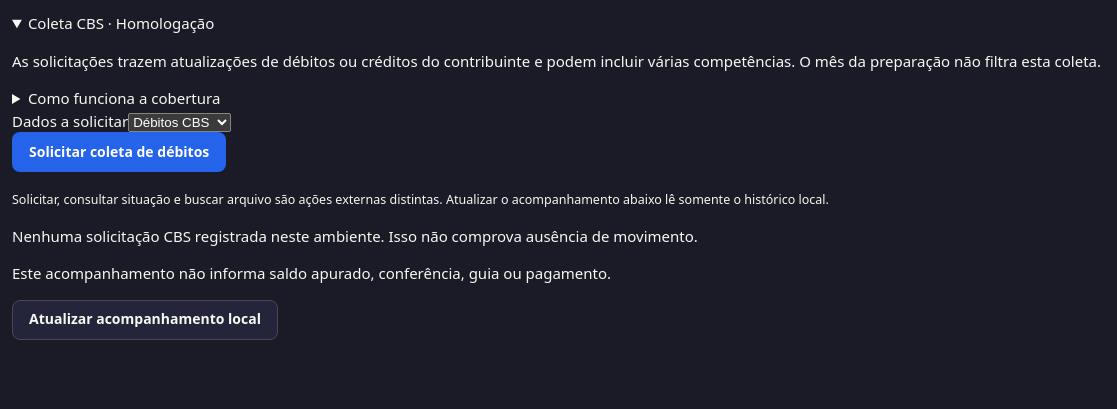
Test: abertura manual usa apenas recurso/ambiente/UUID; duplo clique não duplica e timeout conserva intenção
Expected: the text "Nenhuma solicitação CBS registrada" is shown, x1=12 y1=226 x2=698 y2=246
Select "Créditos CBS" in the dropdown labelled "Dados a solicitar" at (180, 122), box x1=128 y1=112 x2=231 y2=132
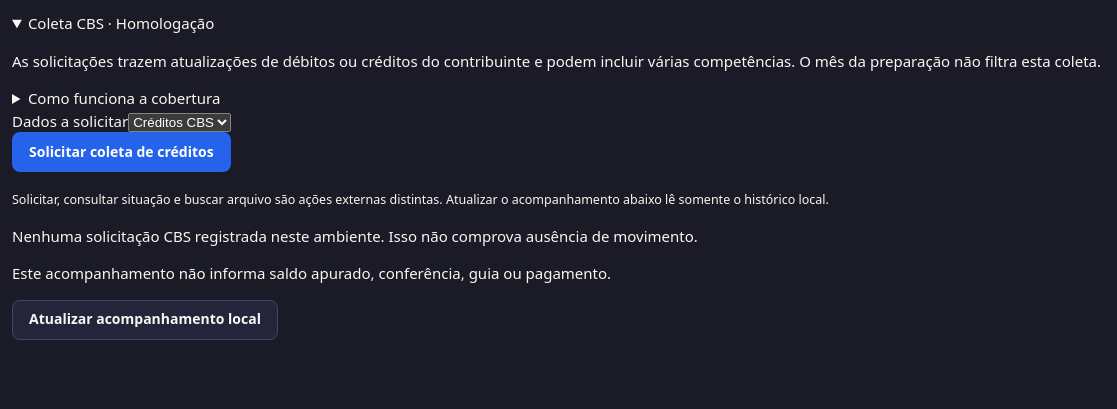
Click the button "Solicitar coleta de créditos".
click(121, 152)  # box x1=12 y1=132 x2=231 y2=172
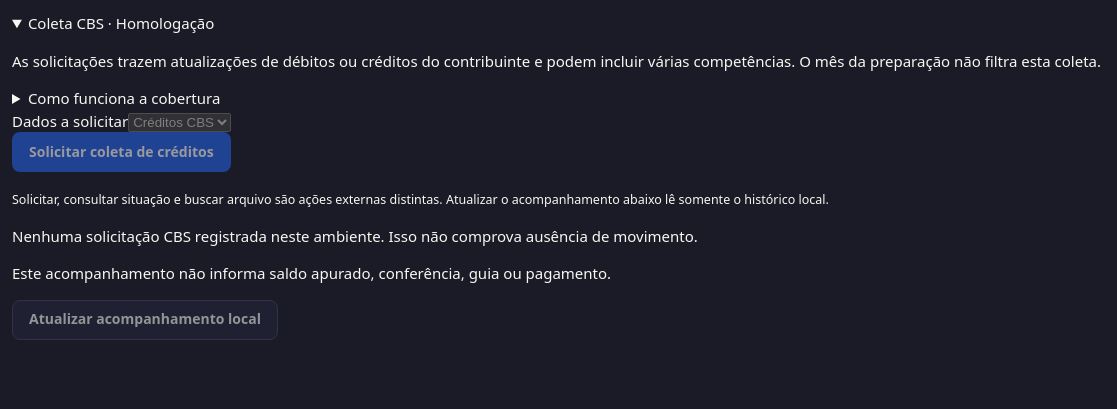
Click the button "Solicitar coleta de créditos".
click(121, 152)  # box x1=12 y1=132 x2=231 y2=172
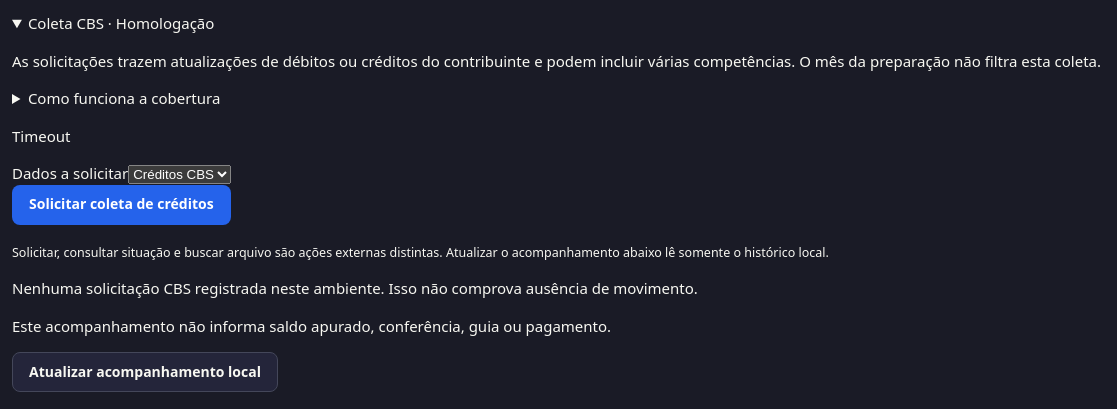
Expected: the text "Timeout" is shown, x1=12 y1=126 x2=70 y2=146
Click the button "Solicitar coleta de créditos".
click(121, 204)  # box x1=12 y1=184 x2=231 y2=224
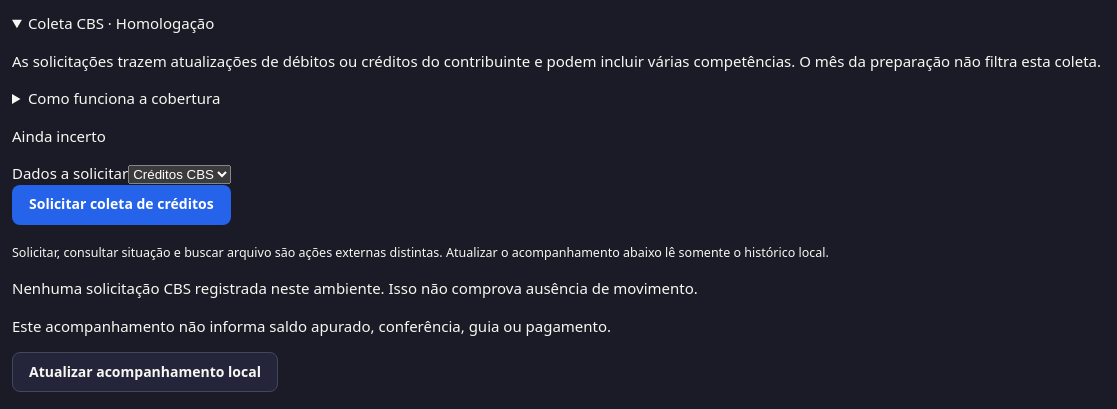
Expected: the text "Ainda incerto" is shown, x1=12 y1=126 x2=106 y2=146
